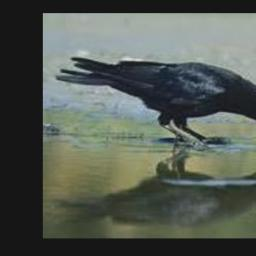Crow: (54, 55, 256, 145)
